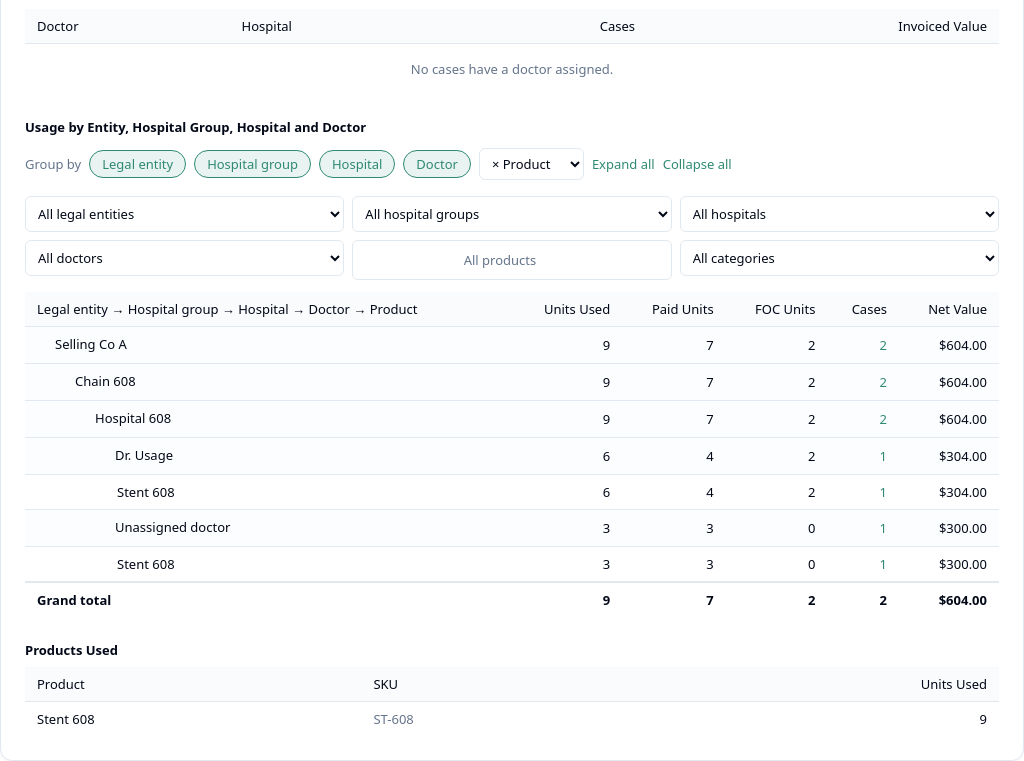
ProductUsageView pivot (#608) › drills down from a cell to its cases with masked patient names
(page scrolled)
What coordinates should you click on to do the following:
click the button named "Show 1 cases for Unassigned doctor"
I would click on:
 (883, 528)
Its box is [880, 519, 887, 537].
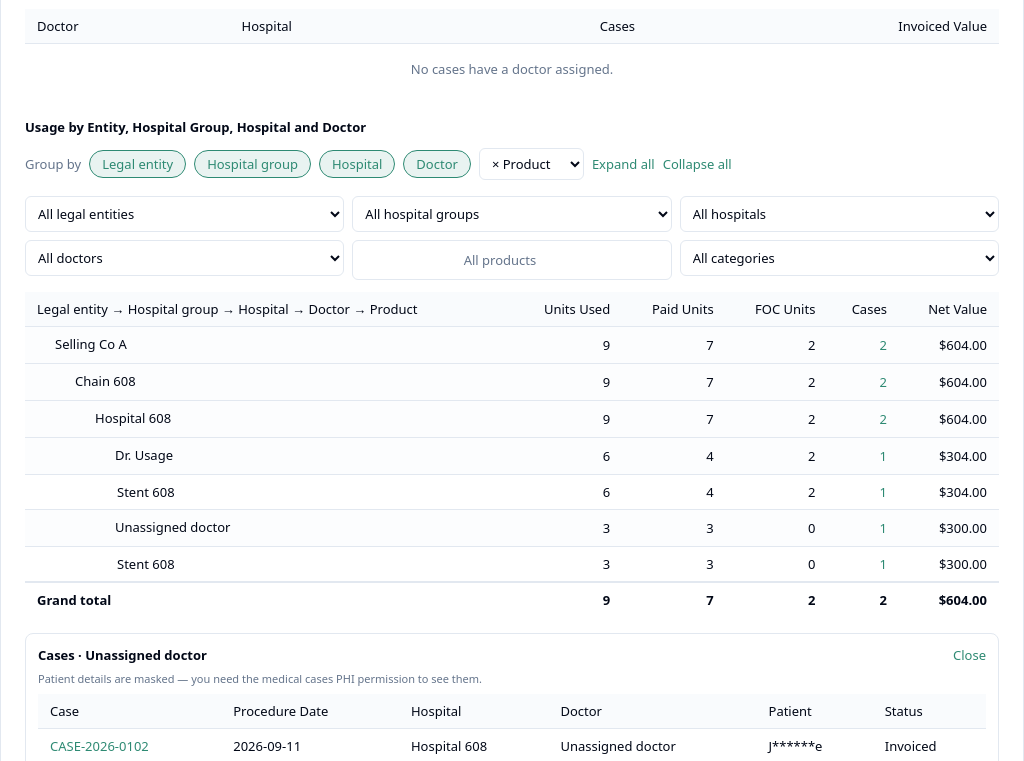
Expected: the link "CASE-2026-0102" is shown, [50, 737, 149, 755]
Expected: the text "PHI permission" is shown, [38, 671, 482, 686]
